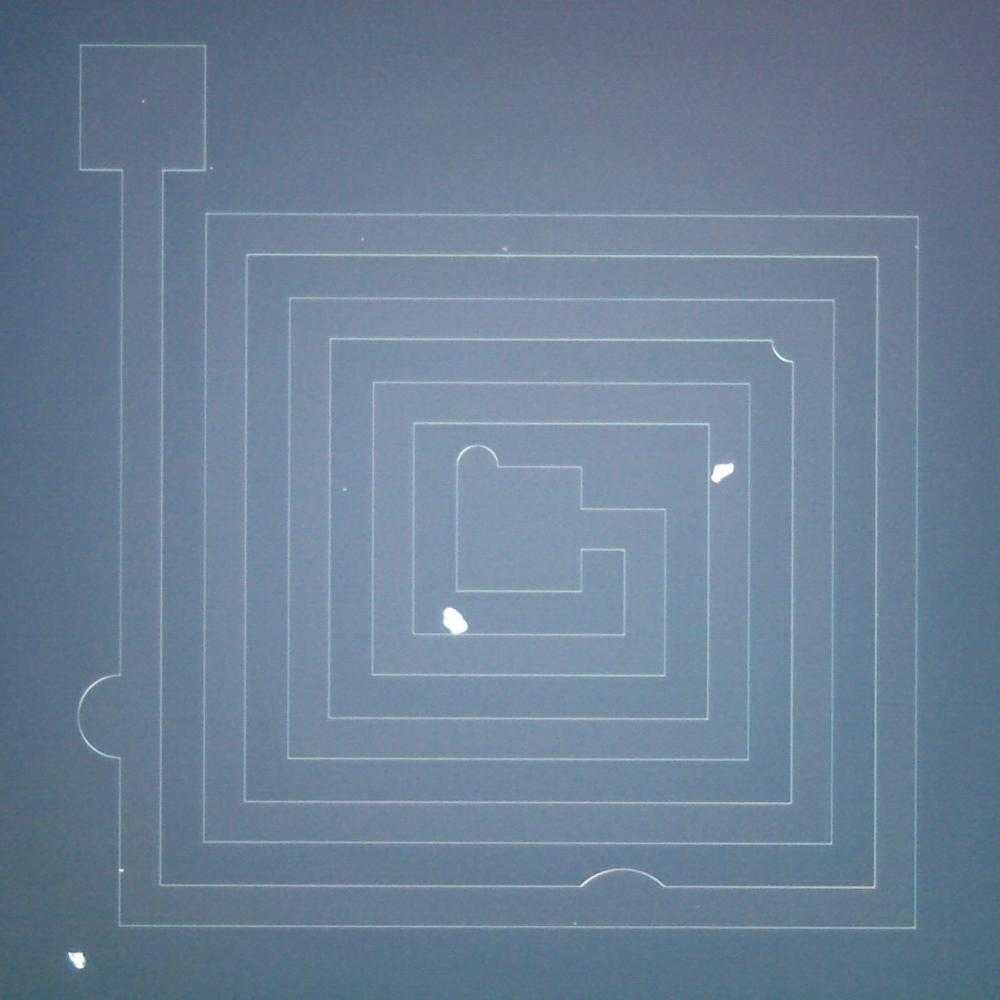Bdot: (442, 606, 468, 634), (710, 462, 734, 485), (67, 951, 87, 969)
dot: (119, 868, 124, 874), (502, 246, 507, 252), (141, 99, 146, 103), (343, 487, 347, 492), (210, 166, 214, 170)
